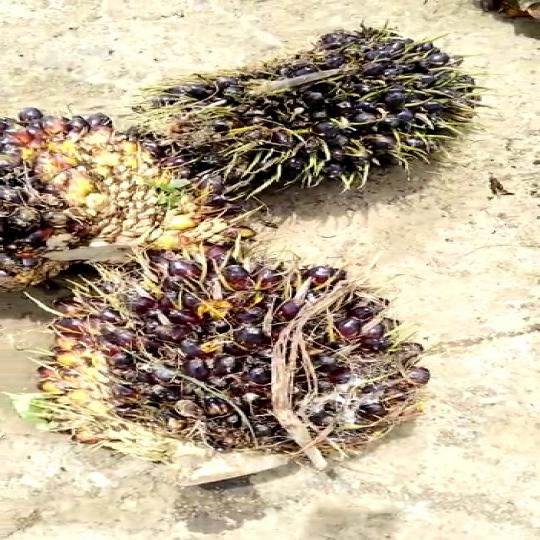mentah: (58, 243, 422, 475), (149, 21, 504, 210), (0, 97, 201, 289)
